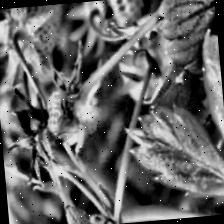Gray Mold: (2, 86, 58, 186)
